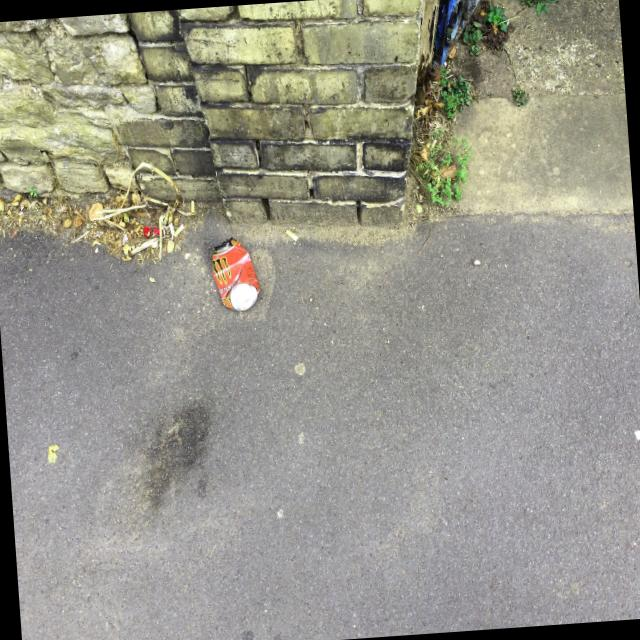less trash: (212, 238, 259, 311)
